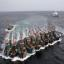fishing boat: (24, 30, 35, 55), (18, 33, 28, 59), (10, 35, 19, 58), (31, 32, 41, 51), (35, 30, 45, 48), (4, 36, 12, 58), (40, 30, 49, 46), (44, 30, 54, 44), (52, 28, 60, 40), (49, 30, 57, 42), (6, 22, 14, 32)
